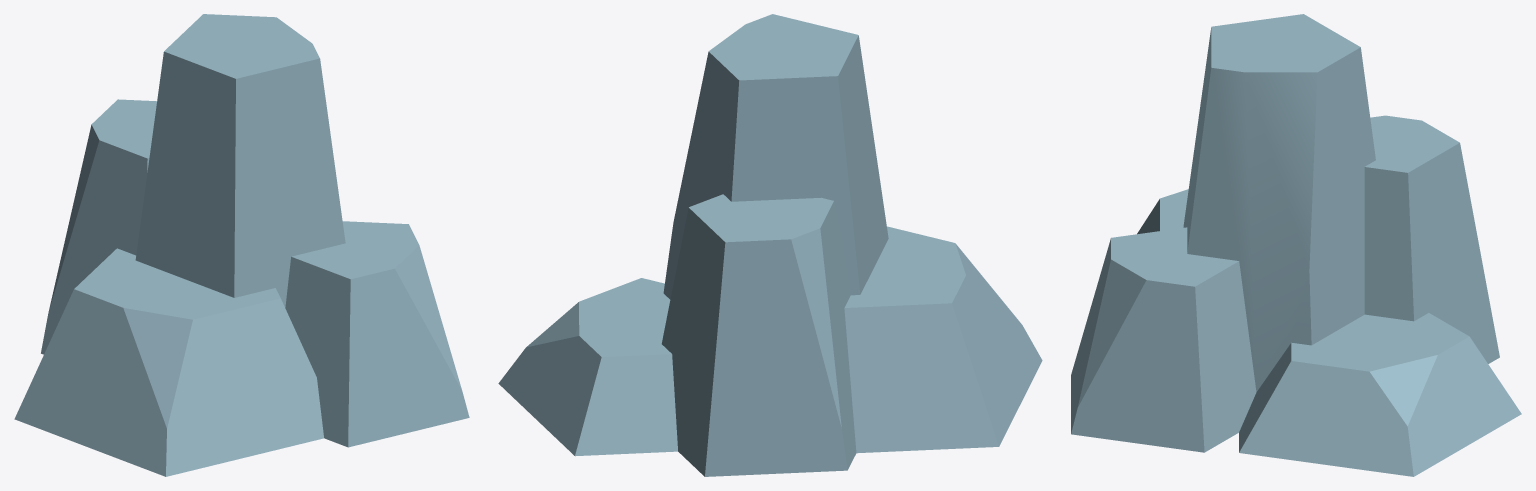
The model's file is d_kenney_rocher_village.glb.
3 renders of one model, left to right at view 1: azimuth 30°, elevation 25°; view 2: azimuth 150°, elevation 25°; view 3: azimuth 270°, elevation 25°, orthographic. The views are drawn at different scales.
Visible parts, largest first — view 1: d_kenney_rocher_village; view 2: d_kenney_rocher_village; view 3: d_kenney_rocher_village.
Part boxes in pixels (x1,y1,x2,y2): d_kenney_rocher_village: (14,14,469,476); d_kenney_rocher_village: (498,14,1042,476); d_kenney_rocher_village: (1071,14,1521,476).
Size of the model in its own units: 1.6 by 1.16 by 1.45.
Materials: 1 (1 with a texture image).
